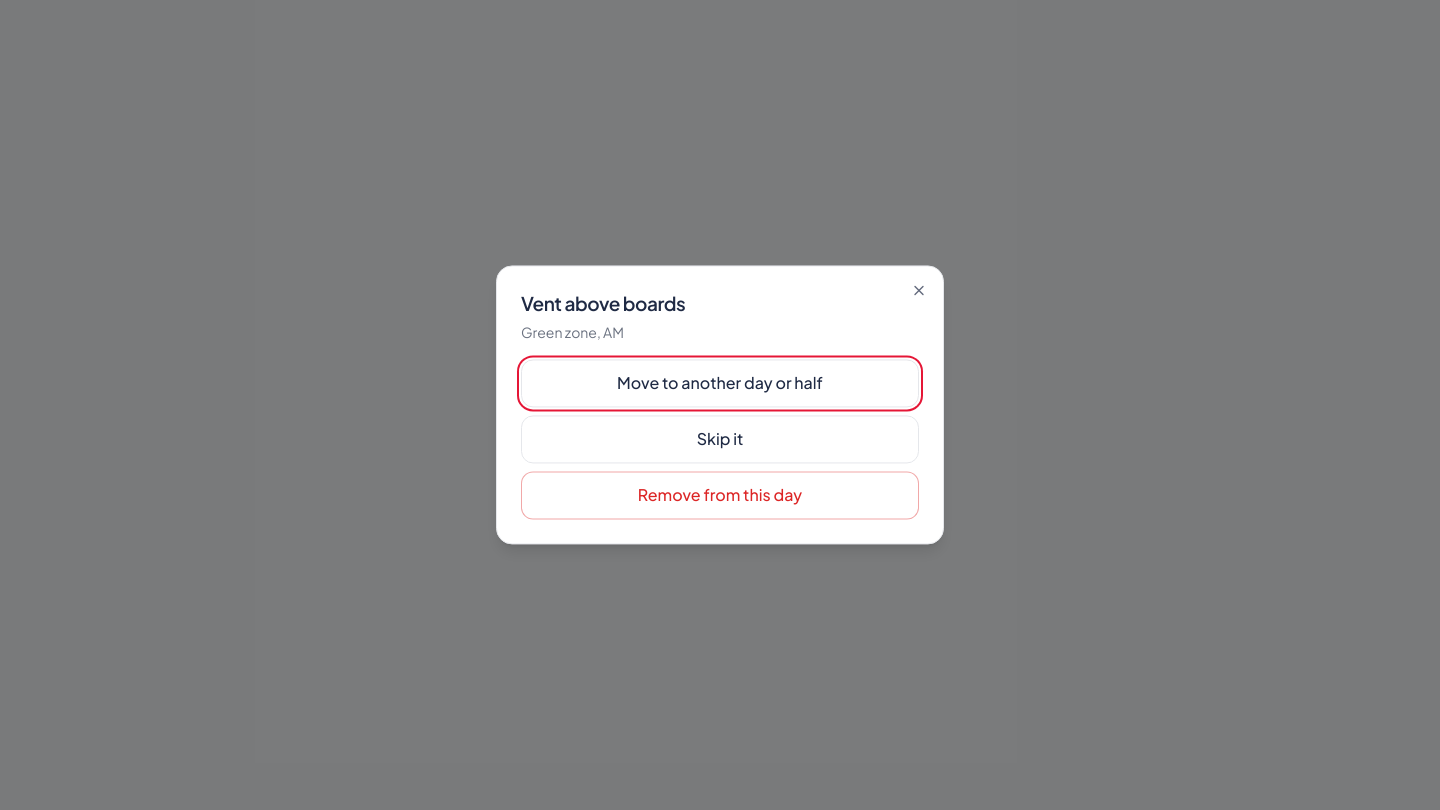
move › disables days that already passed, because a clean there would close out as a miss
The width and height of the screenshot is (1440, 810).
Click the button "Move to another day or half": (720, 384) top-left (521, 360), bottom-right (919, 408)
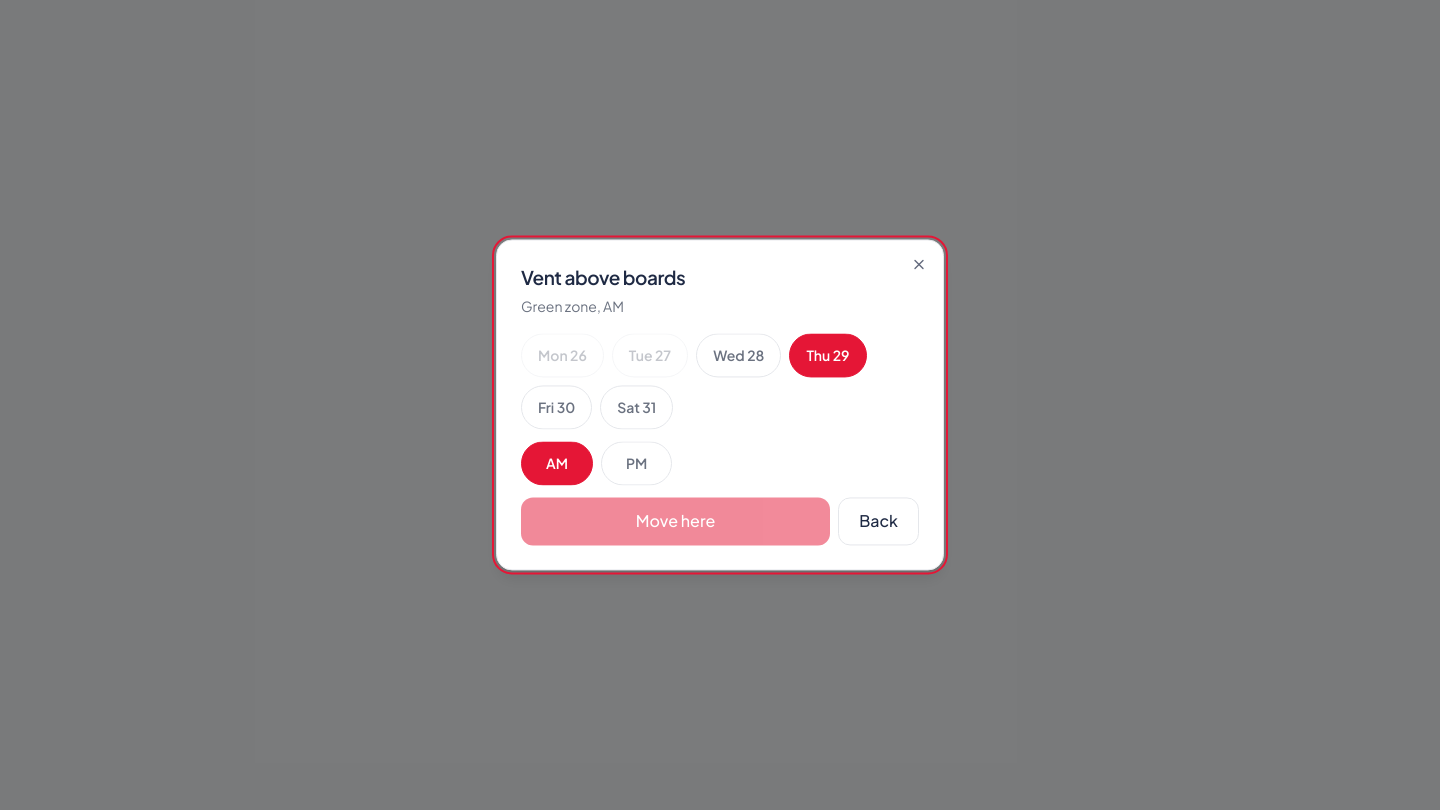
Result: the button "Mon 26" is disabled at top-left (521, 334), bottom-right (604, 378)
Result: the button "Tue 27" is disabled at top-left (612, 334), bottom-right (688, 378)
Result: the button "Wed 28" is enabled at top-left (696, 334), bottom-right (781, 378)
